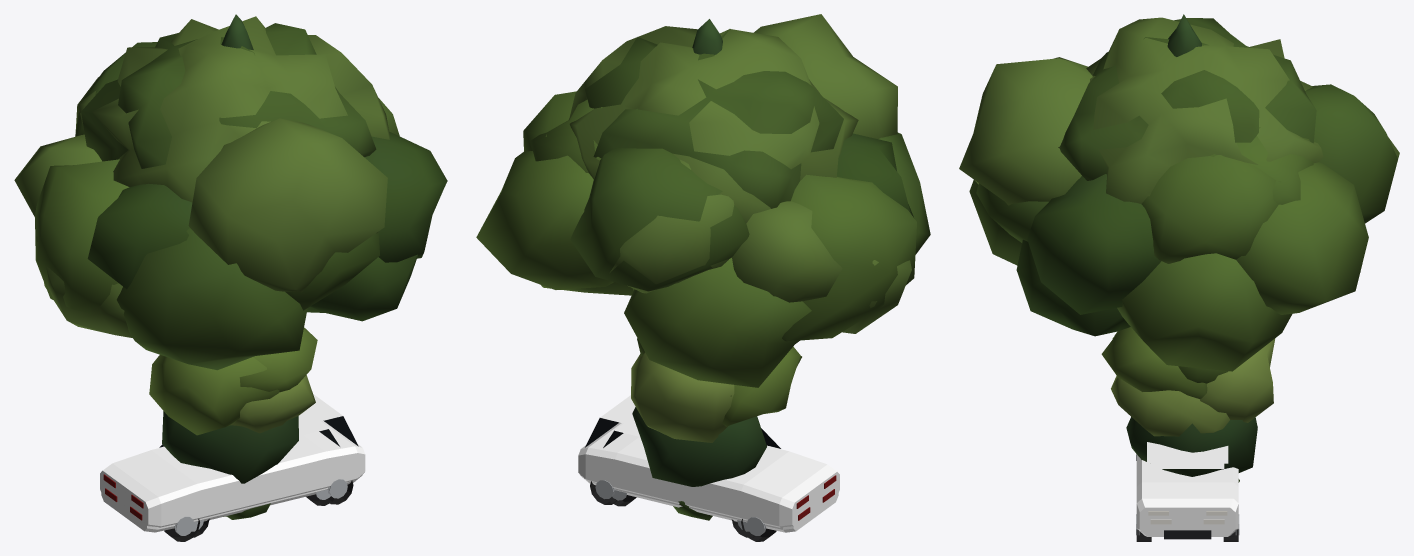
Rendered from props.glb.
3 renders of one model, left to right at view 1: azimuth 30°, elevation 25°; view 2: azimuth 150°, elevation 25°; view 3: azimuth 270°, elevation 25°, orthographic.
Visible parts, largest first — view 1: Tree_plane, Tree_plane2, Car_suv, Tree_small, Tree_cypress, Car_sedan, Car_hatch; view 2: Tree_plane, Tree_plane2, Car_suv, Tree_small, Tree_cypress, Car_sedan, Car_hatch; view 3: Tree_plane, Tree_plane2, Tree_small, Car_suv, Tree_cypress, Car_sedan.
Boxes of the visible parts, x1,y1,x2,y2 form: Tree_plane: (36, 16, 447, 370); Tree_plane2: (14, 23, 417, 321); Car_suv: (100, 394, 365, 541); Tree_small: (149, 327, 317, 435); Tree_cypress: (162, 14, 298, 483); Car_sedan: (101, 435, 363, 540); Car_hatch: (185, 422, 339, 537); Tree_plane: (476, 14, 930, 387); Tree_plane2: (523, 29, 916, 341); Car_suv: (578, 395, 839, 541); Tree_small: (631, 338, 801, 442); Tree_cypress: (632, 19, 766, 486); Car_sedan: (580, 437, 838, 540); Car_hatch: (603, 423, 755, 537); Tree_plane: (959, 17, 1399, 371); Tree_plane2: (976, 18, 1397, 336); Tree_small: (1101, 327, 1275, 436); Car_suv: (1136, 442, 1239, 541); Tree_cypress: (1126, 14, 1257, 476); Car_sedan: (1138, 517, 1236, 541).
Size of the model in its own units: 8.48 by 10.43 by 8.42.
